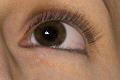eye: (35, 21, 66, 46)
